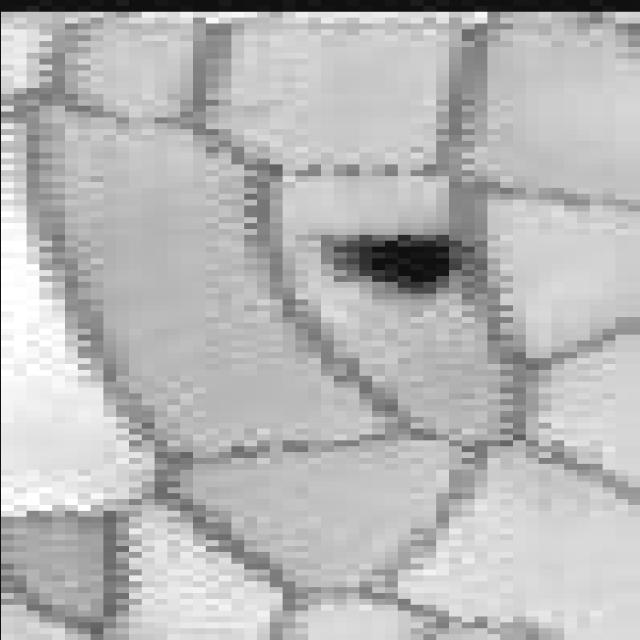good_void: (302, 219, 490, 302)
